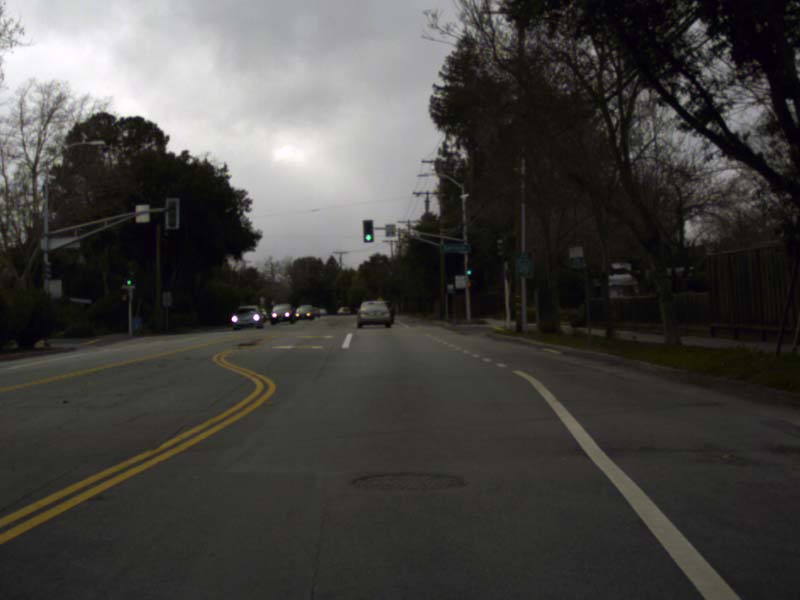Green: (362, 219, 373, 242), (466, 268, 473, 284), (125, 271, 131, 287)
